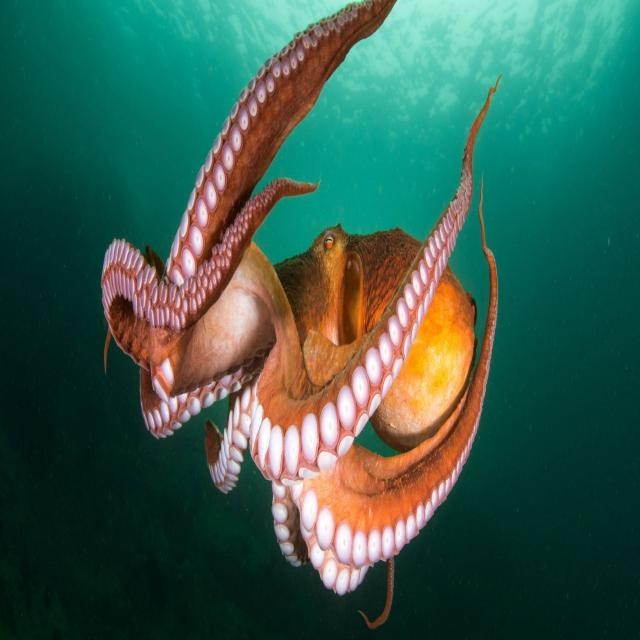squid: (101, 0, 497, 628)
